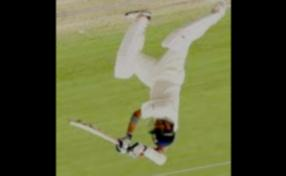batsman: (86, 0, 229, 176)
